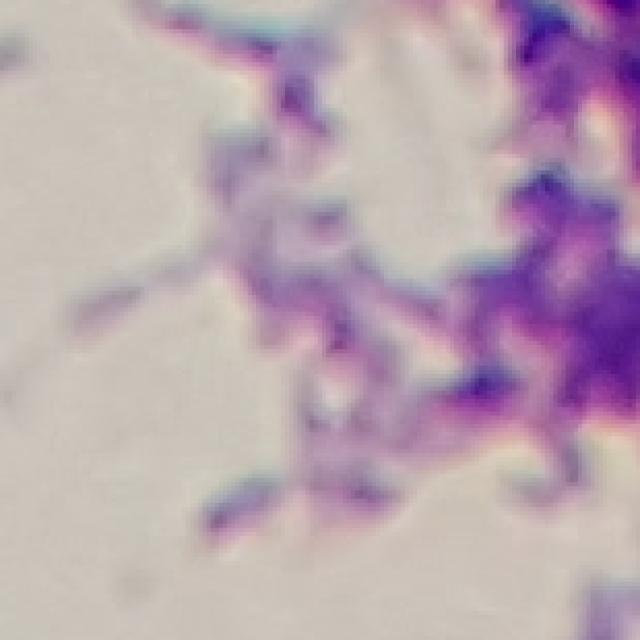non-sperm: (425, 37, 629, 454)
